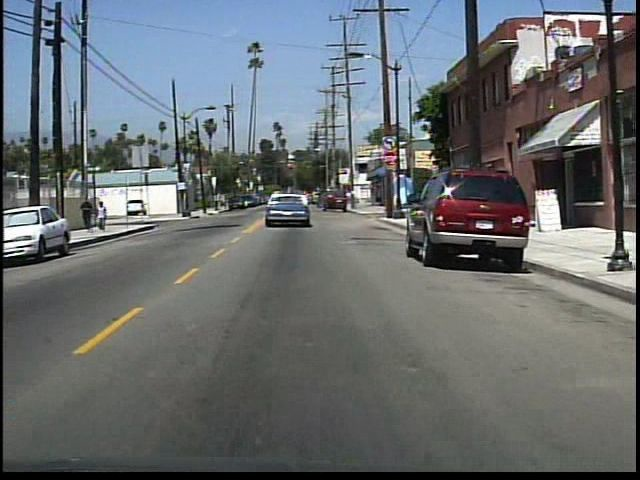person: (81, 194, 98, 233), (97, 200, 111, 233)
